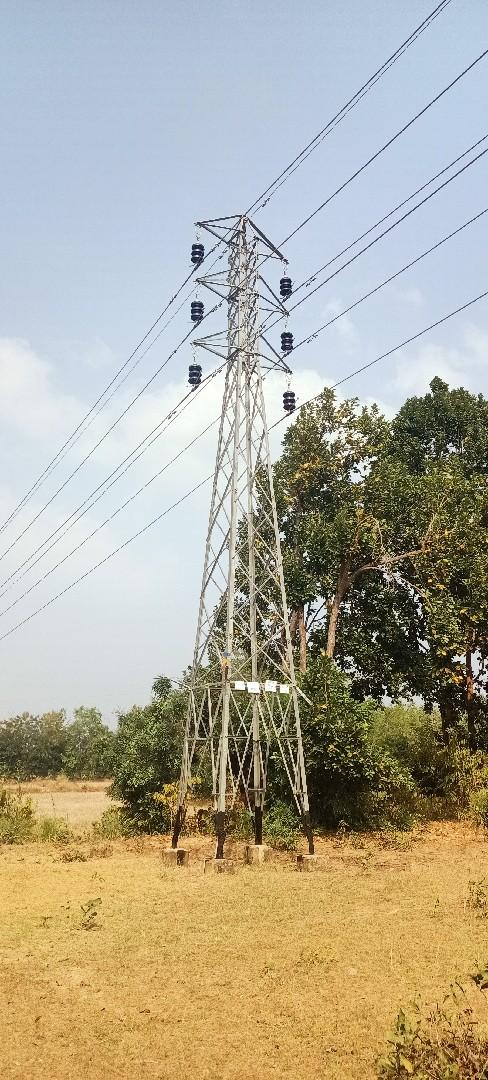GSM Antenna: (158, 208, 318, 831)
